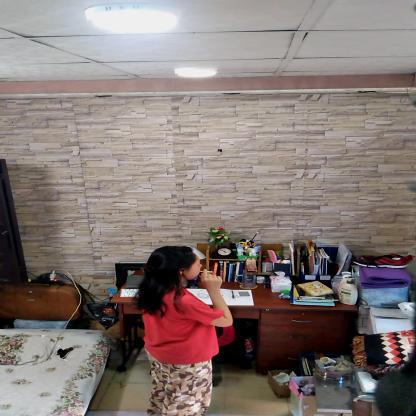cigarette: (200, 270, 214, 272)
person: (137, 245, 235, 415)
